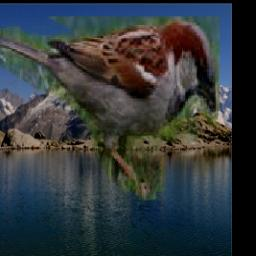Sparrow: (0, 17, 220, 202)
